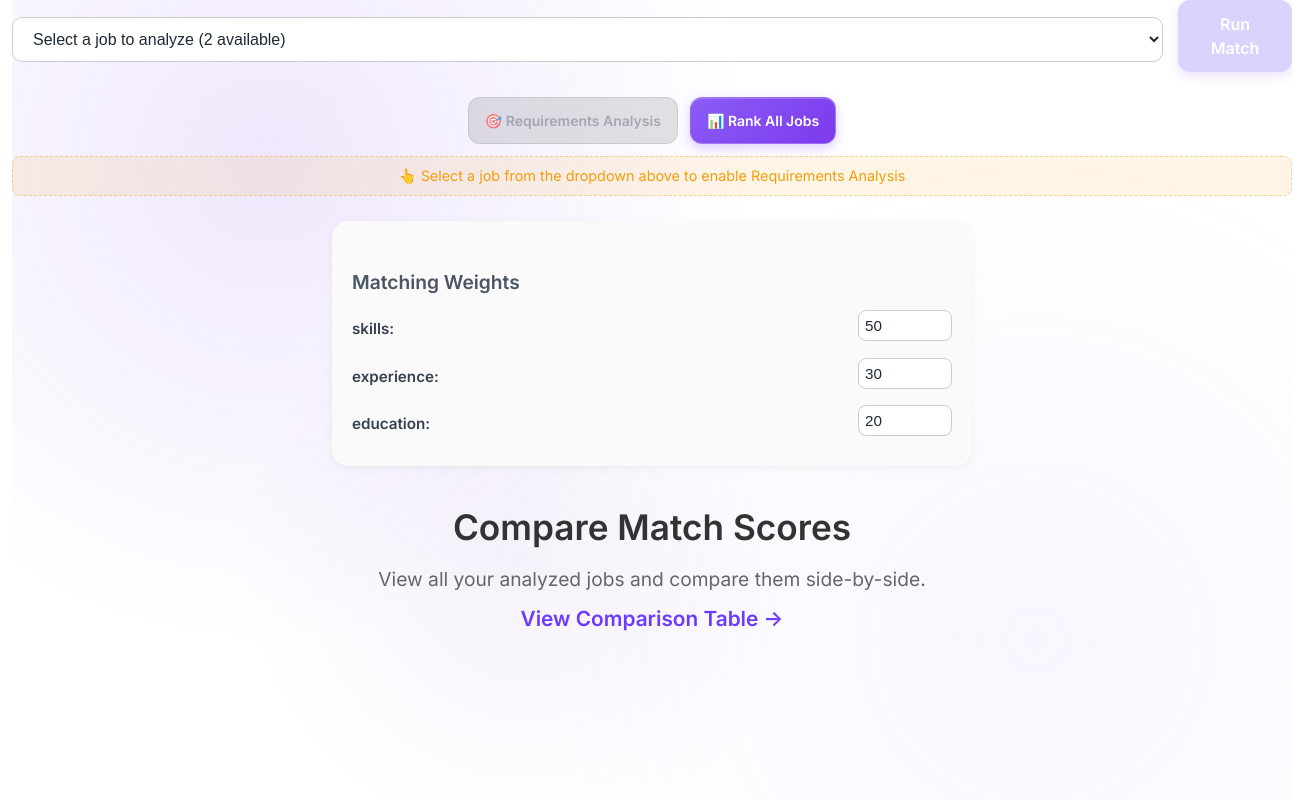
Test case: MatchAnalysisTab › displays strengths, gaps, and improvements
Select "Software Engineer — Tech Corp" in the dropdown at [588, 39], box [12, 17, 1163, 62]
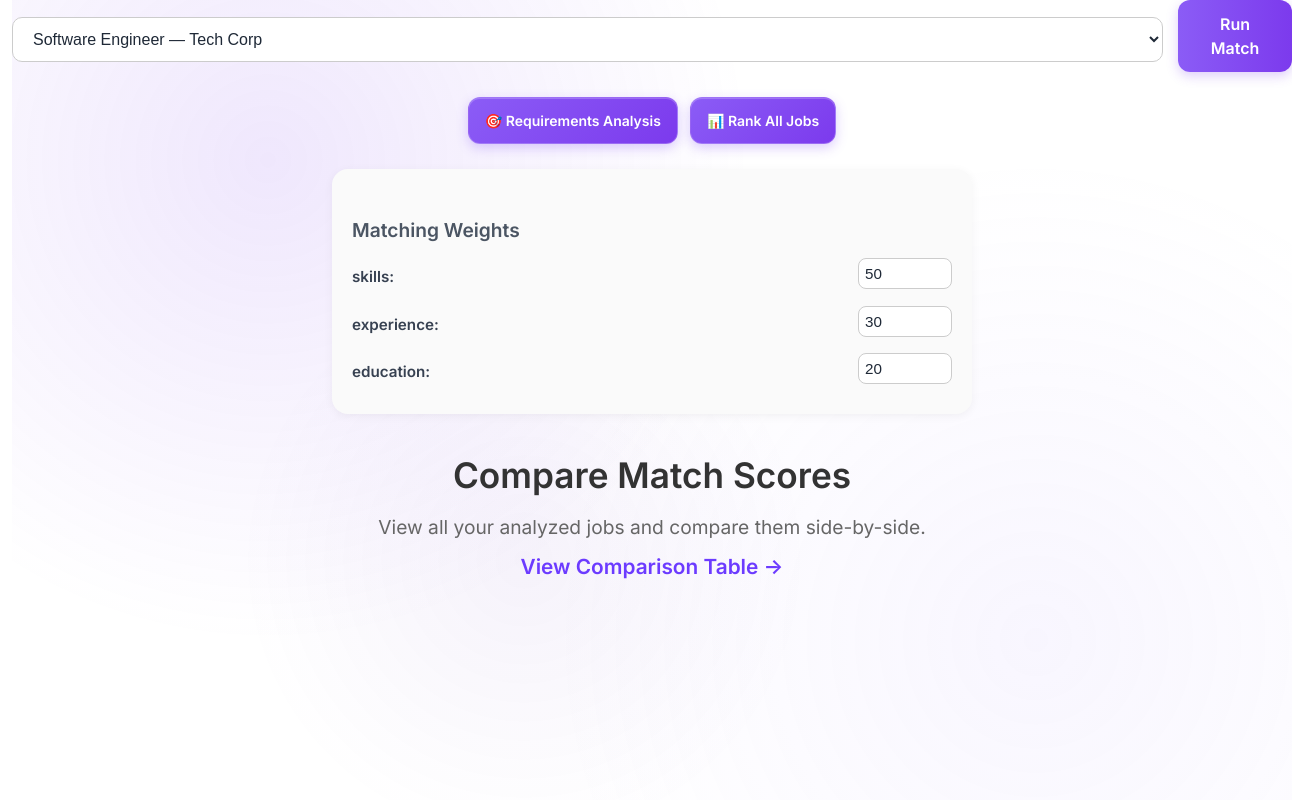
Click the button "Run Match".
click(1235, 36)  # box [1178, 0, 1292, 72]
(page scrolled)
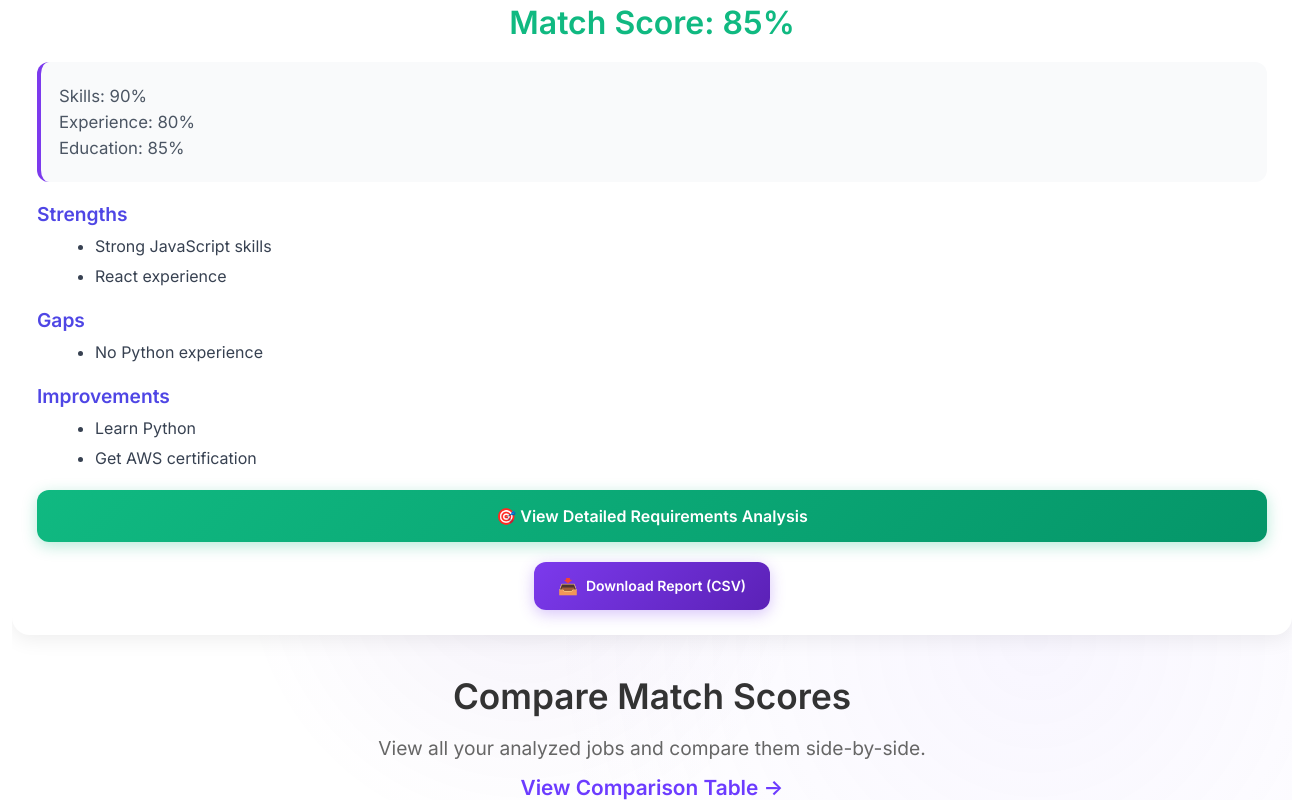
Check: the list item "Strong JavaScript skills" is shown, box [95, 236, 272, 256]
Check: the list item "No Python experience" is shown, box [95, 342, 263, 362]
Check: the list item "Learn Python" is shown, box [95, 418, 196, 438]
